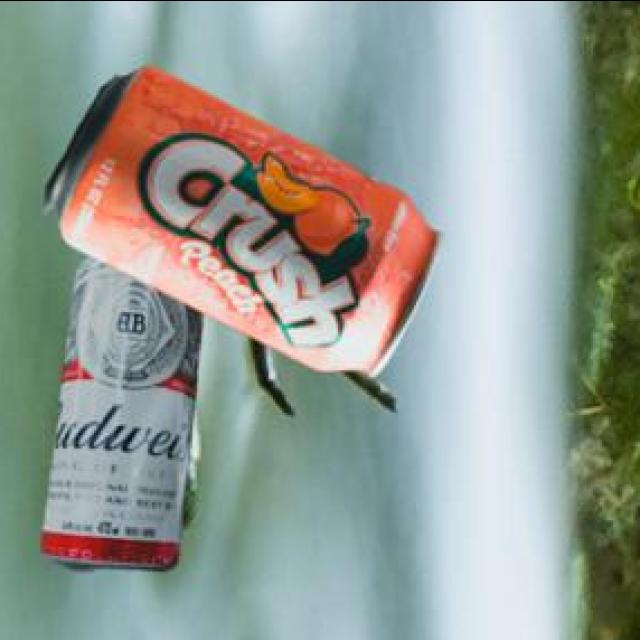logam: (48, 62, 446, 373), (46, 252, 207, 565)
